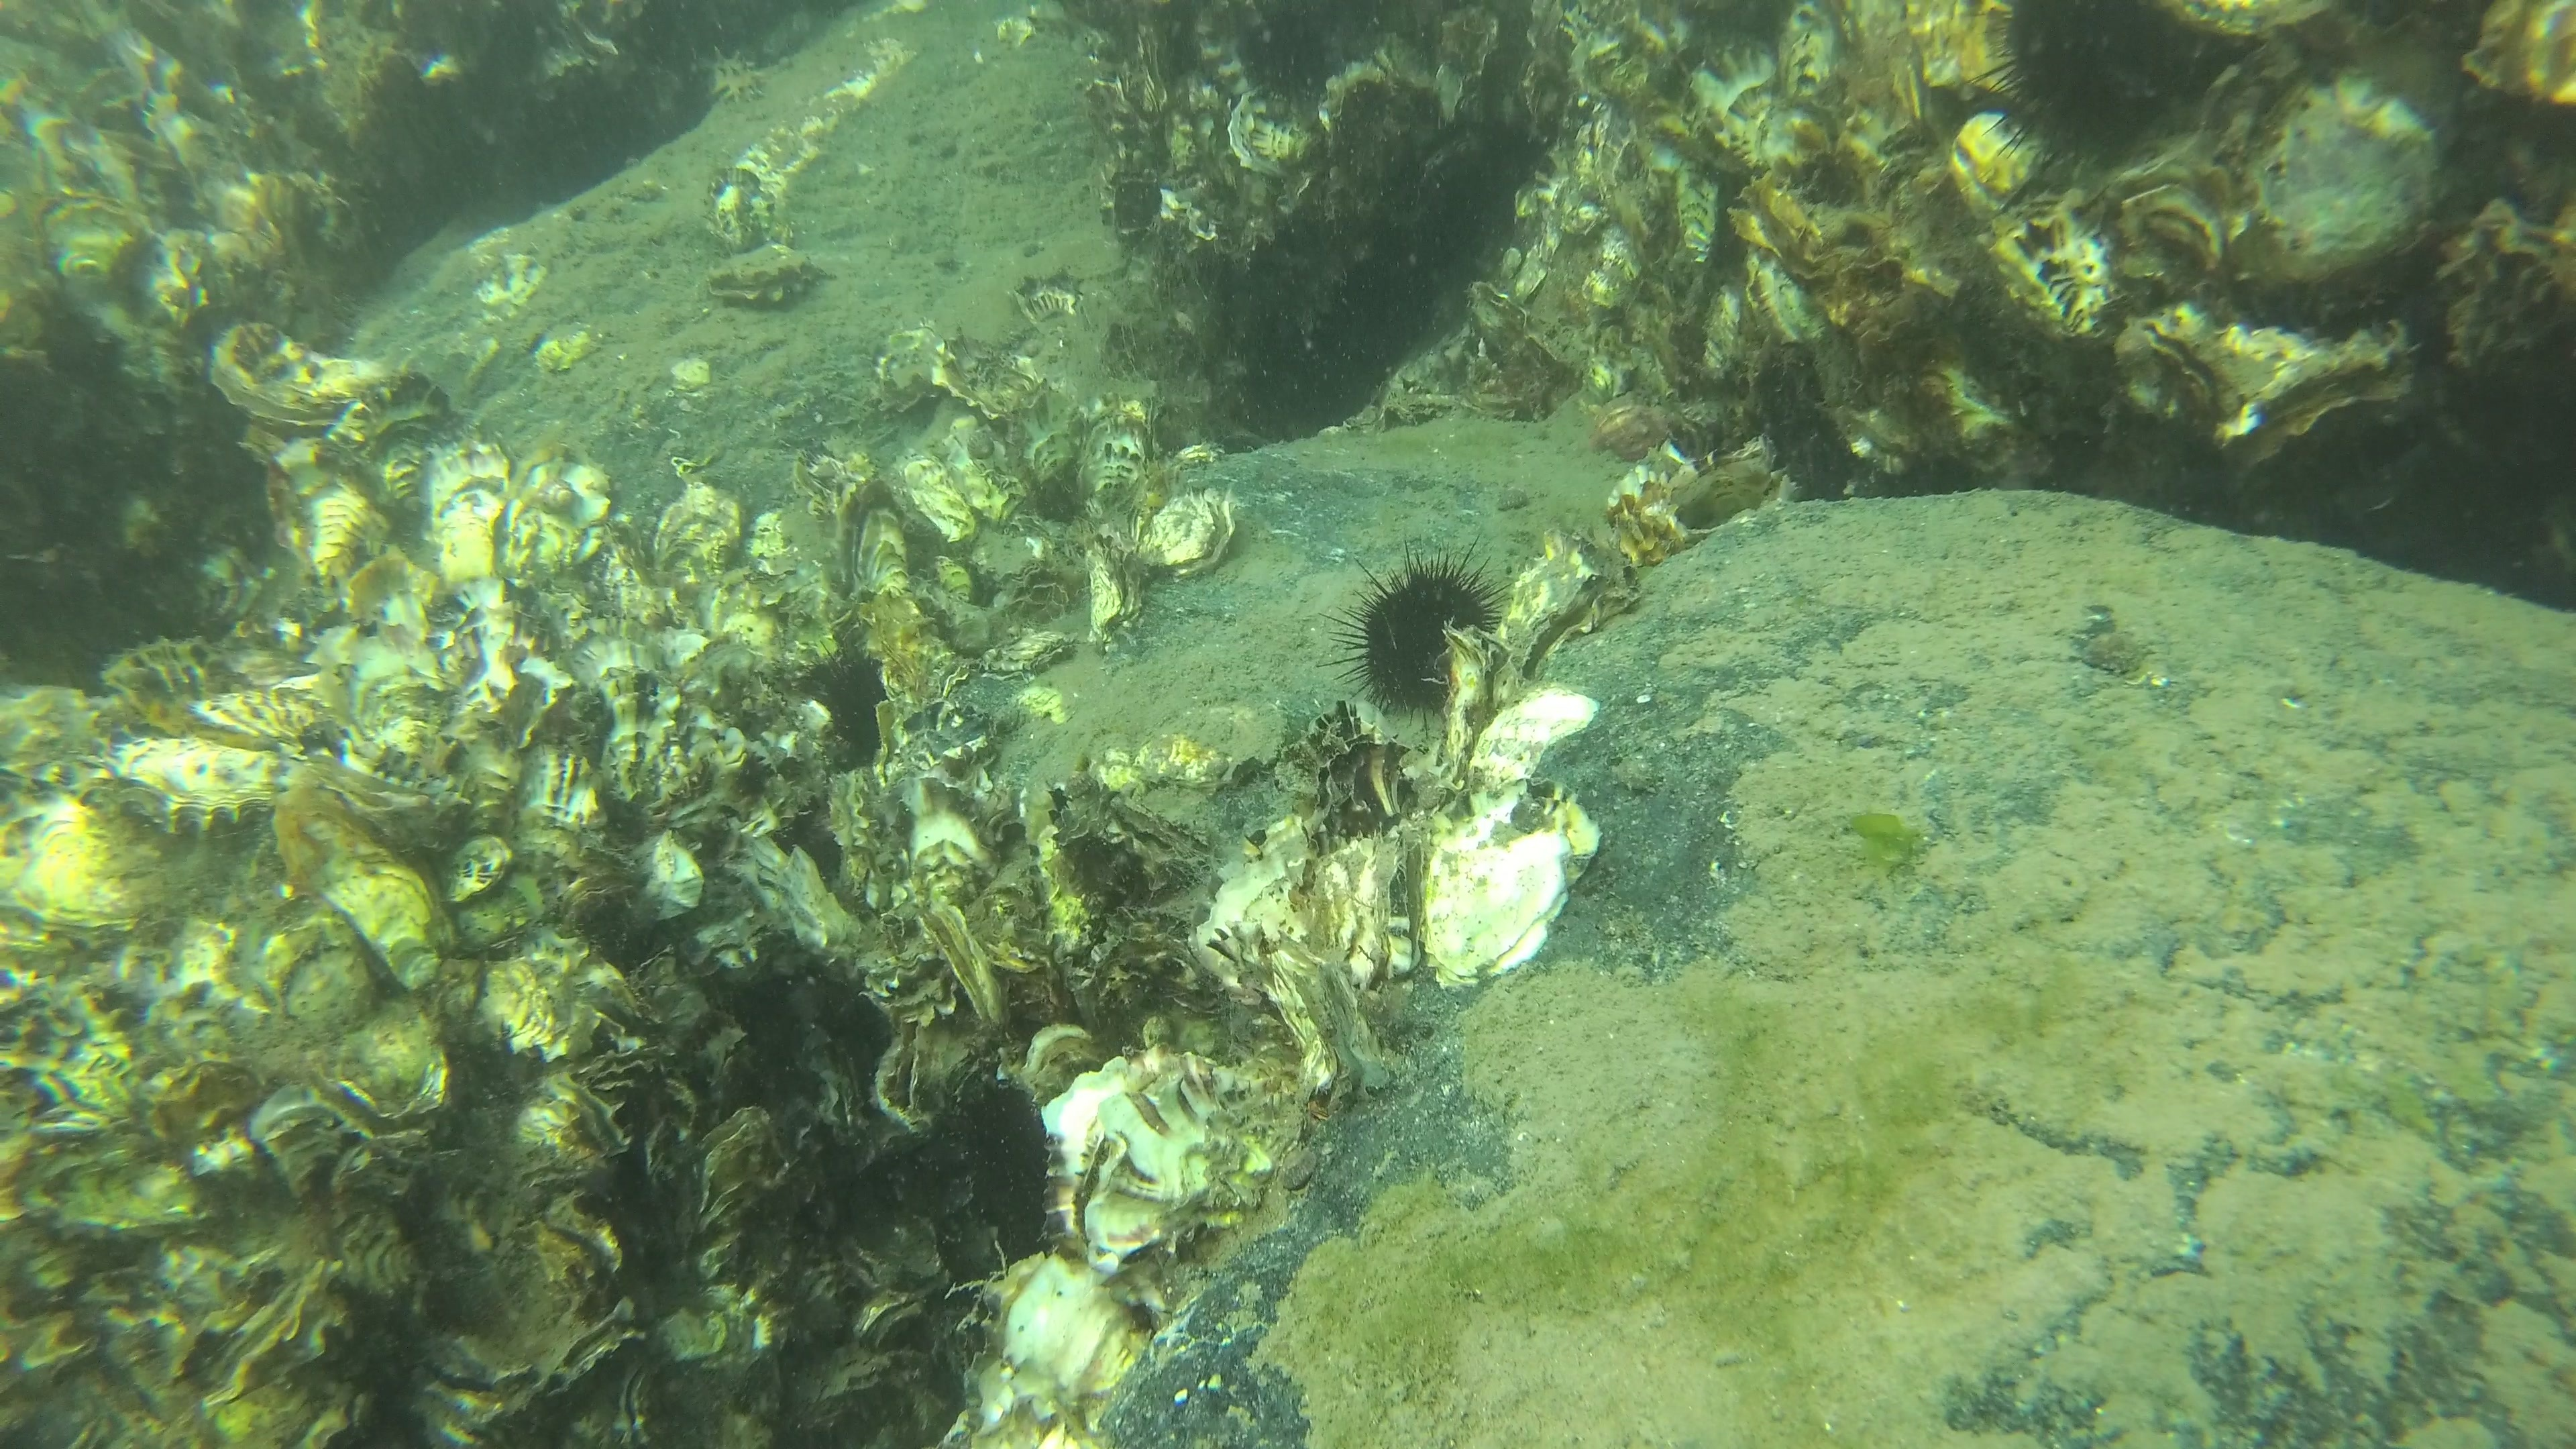echinus: (1330, 543, 1507, 727), (1989, 0, 2176, 173), (800, 646, 886, 748)
holothurian: (695, 51, 775, 103)
